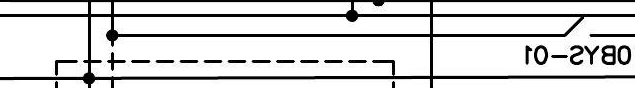115_ds: (564, 17, 594, 38)
